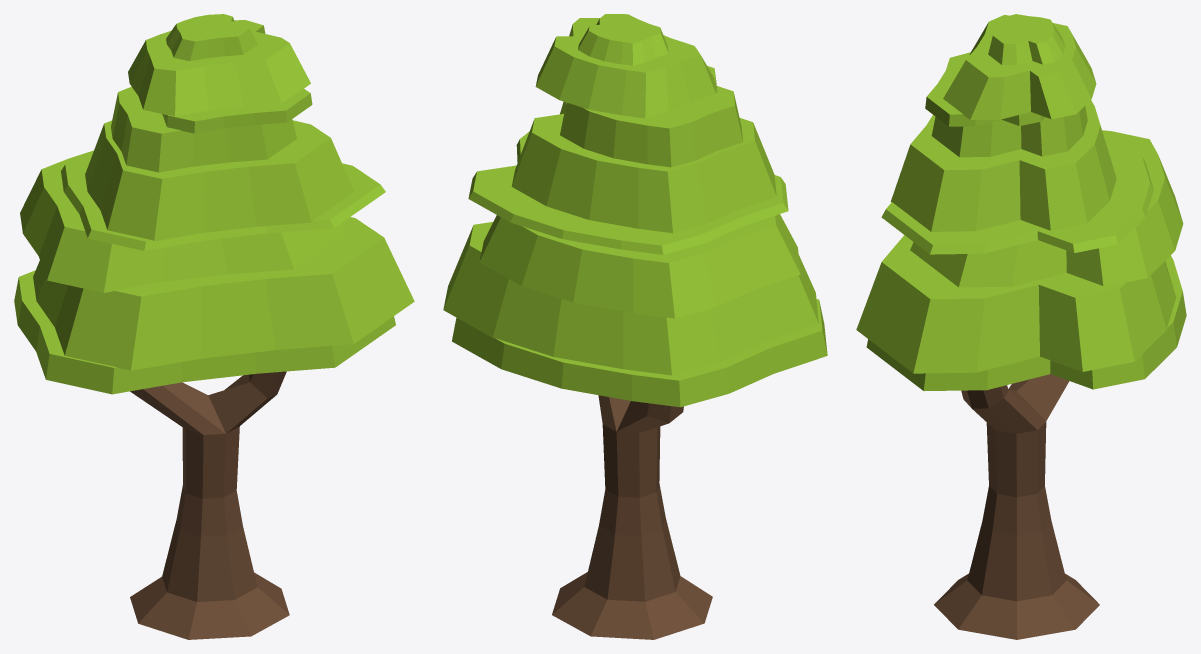
File: tree4.glb
3 views of the same model, side by side, from view 1: azimuth 30°, elevation 25°; view 2: azimuth 150°, elevation 25°; view 3: azimuth 270°, elevation 25° (orthographic).
Visible parts, largest first — view 1: Plane.007; view 2: Plane.007; view 3: Plane.007.
Boxes of the visible parts, <box> form: Plane.007: <box>14,14,414,639</box>; Plane.007: <box>443,14,827,639</box>; Plane.007: <box>856,14,1186,639</box>.
Bounding box in the file's own units: 8.6 × 14.21 × 7.37.
